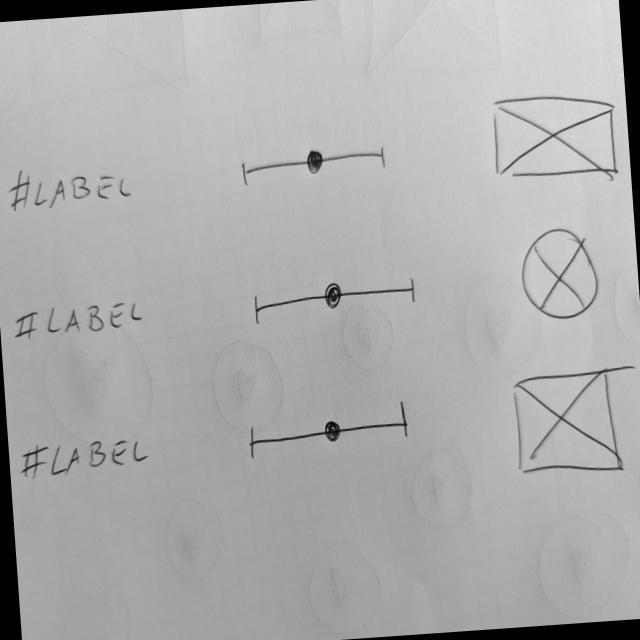image: (507, 363, 629, 485), (490, 88, 622, 187), (517, 226, 603, 323)
label: (3, 160, 142, 221), (13, 430, 154, 487), (12, 297, 152, 347)
slider: (243, 398, 417, 462), (248, 271, 423, 331), (238, 140, 394, 190)
